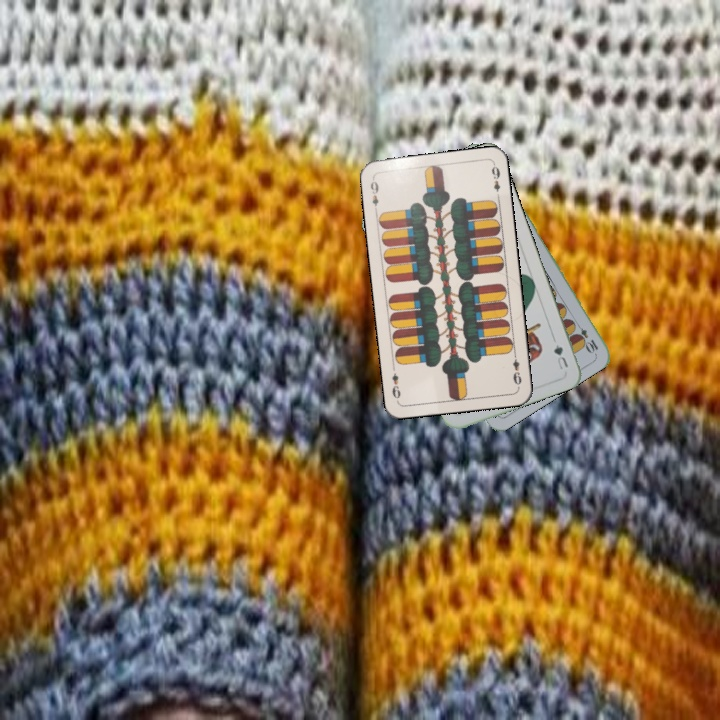E10: (571, 318, 601, 355)
E9: (366, 174, 381, 215), (509, 349, 524, 389)
GU: (550, 340, 571, 372)
